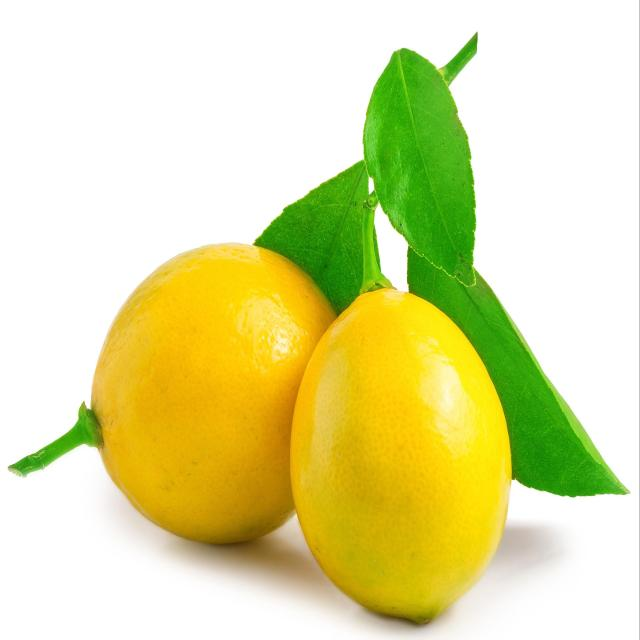lemon: (283, 281, 516, 633)
